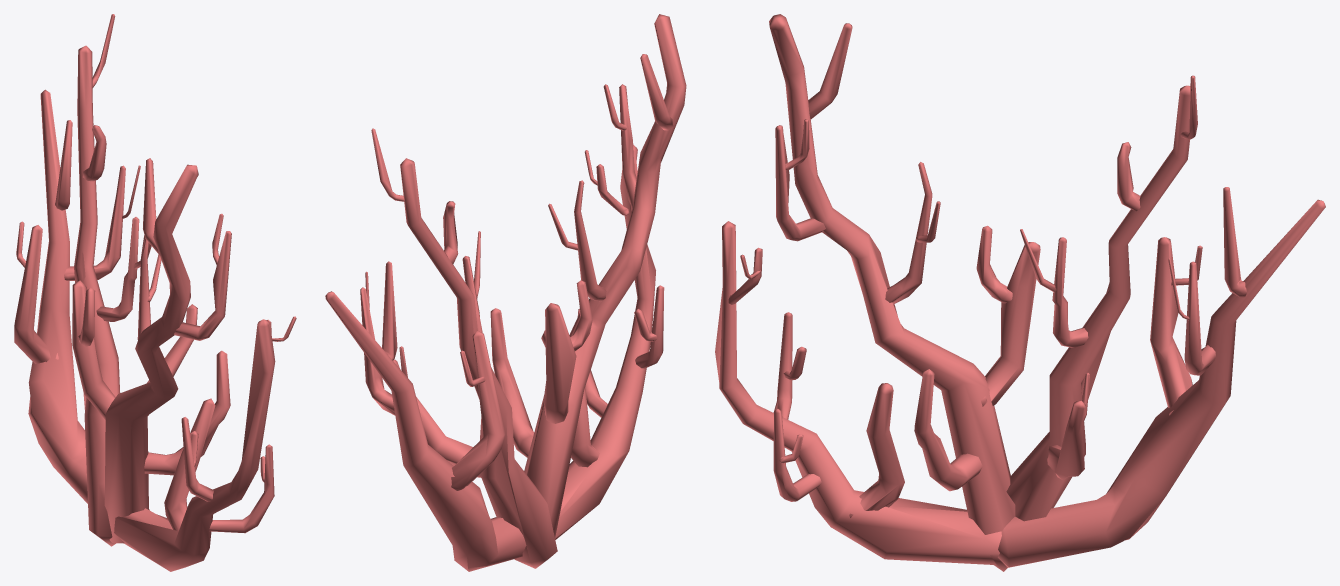
File: coral1.fbx
3 views of the same model, side by side, from view 1: azimuth 30°, elevation 25°; view 2: azimuth 150°, elevation 25°; view 3: azimuth 270°, elevation 25° (orthographic). The views are drawn at different scales.
Parts seen in each view (by area): view 1: Object_19; view 2: Object_19; view 3: Object_19.
Boxes of the visible parts, box(x1,y1,x2,y2) form: Object_19: box(14, 14, 296, 571); Object_19: box(325, 14, 686, 571); Object_19: box(715, 14, 1325, 571).
Size of the model in its own units: 8 by 21.64 by 22.27.
1 material, 1 textured.
